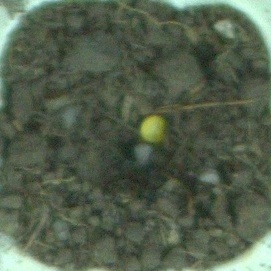chilli seed: (137, 114, 167, 142)
